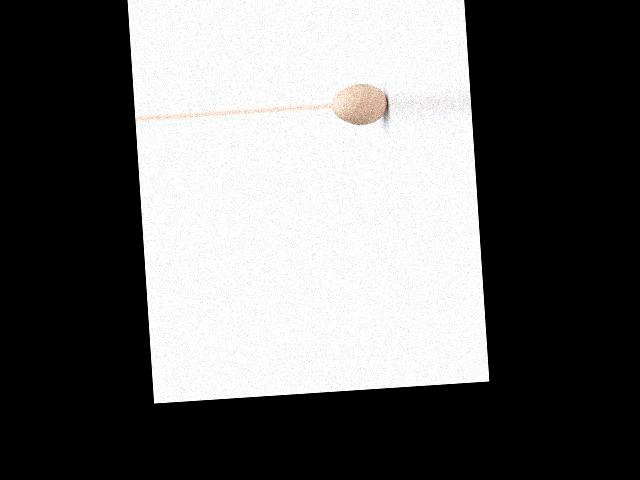egg: (330, 81, 389, 126)
